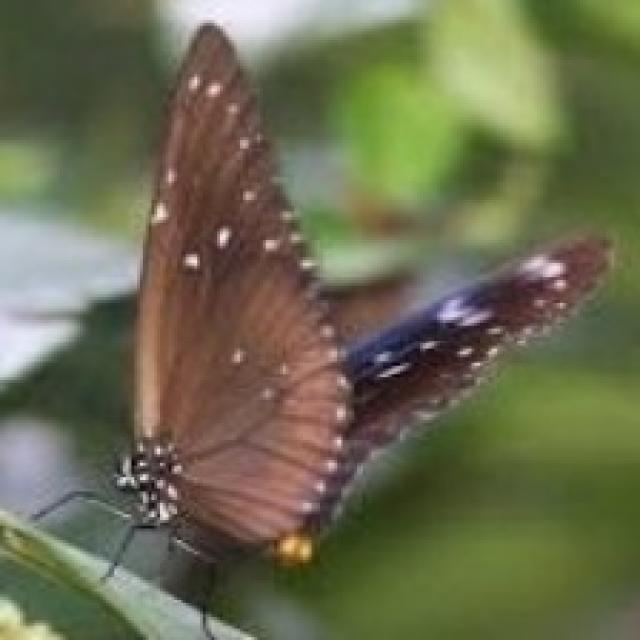butterfly: (31, 20, 612, 640)
